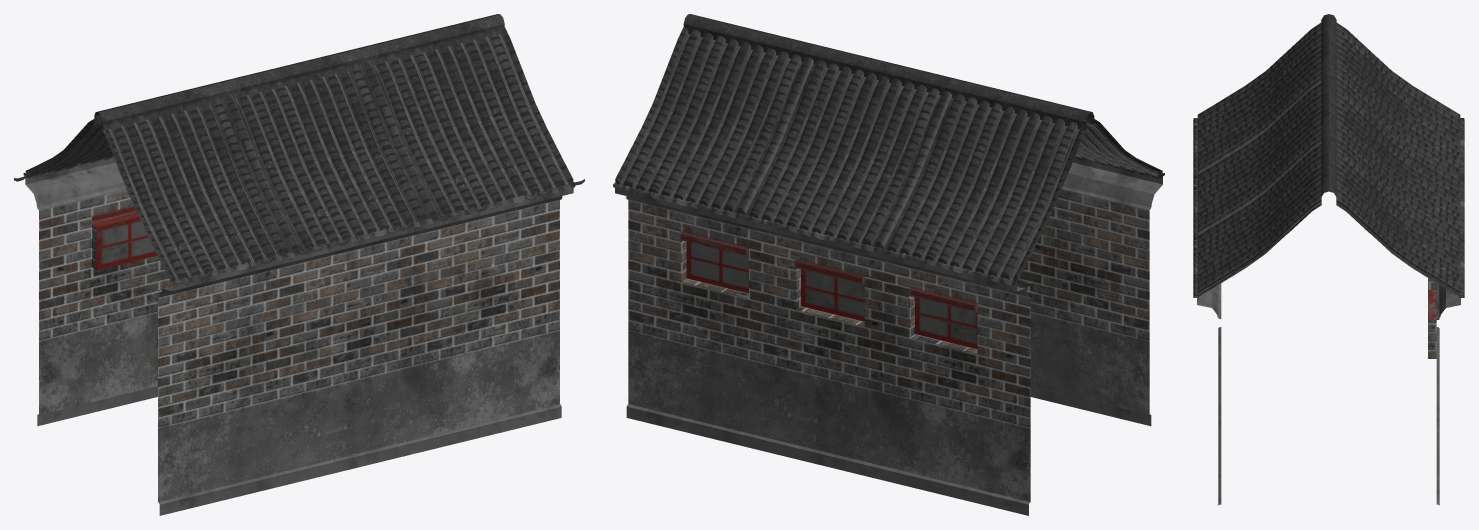
Rendered from hutong_wall_b.fbx.
3 renders of one model, left to right at view 1: azimuth 30°, elevation 25°; view 2: azimuth 150°, elevation 25°; view 3: azimuth 270°, elevation 25°, orthographic. The views are drawn at different scales.
Parts seen in each view (by area): view 1: hogtong_wall_b; view 2: hogtong_wall_b; view 3: hogtong_wall_b.
Part boxes in pixels (x1,y1,x2,y2): hogtong_wall_b: (14, 14, 584, 515); hogtong_wall_b: (613, 14, 1164, 515); hogtong_wall_b: (1193, 14, 1464, 505).
Bounding box in the file's own units: 510 × 409 × 310.
Materials: 2 (2 with a texture image).
